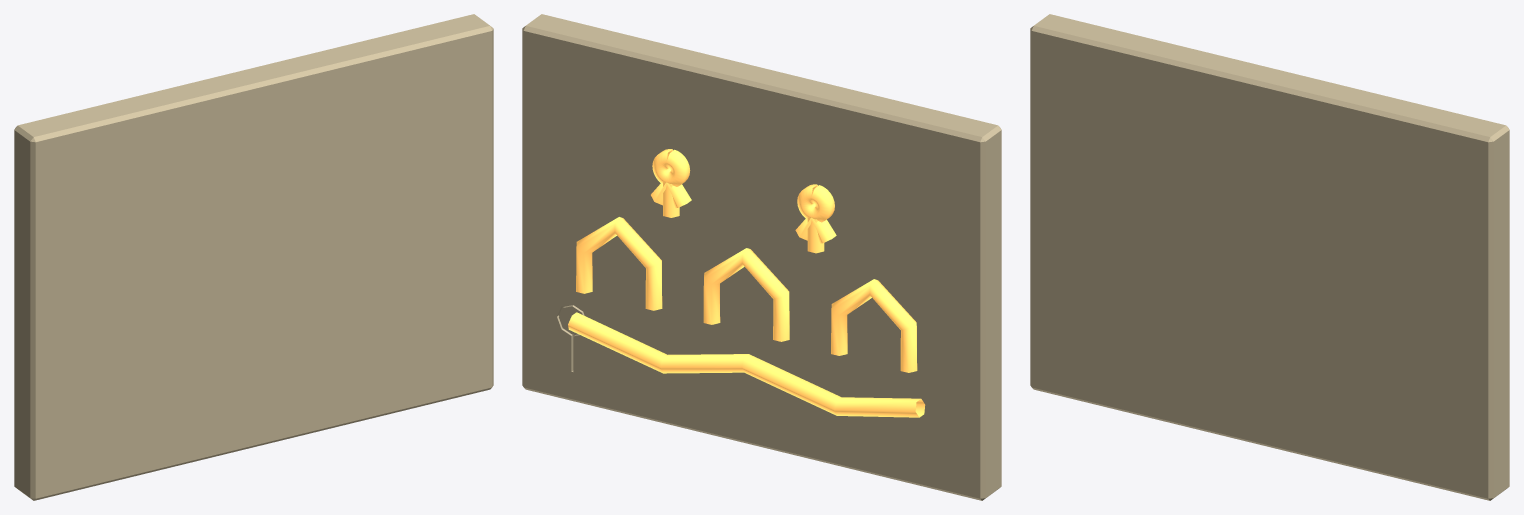
File: mural_0.glb
3 views of the same model, side by side, from view 1: azimuth 30°, elevation 25°; view 2: azimuth 150°, elevation 25°; view 3: azimuth 330°, elevation 25° (orthographic).
Visible parts, largest first — view 1: mural_0; view 2: mural_0; view 3: mural_0.
Part boxes in pixels (x1,y1,x2,y2): mural_0: (14,14,493,500); mural_0: (522,14,1001,500); mural_0: (1030,14,1509,500).
Size of the model in its own units: 4 by 3 by 0.452.
